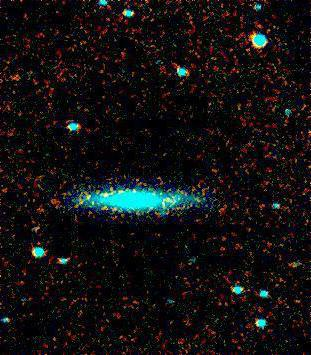star: (155, 185, 185, 215)
